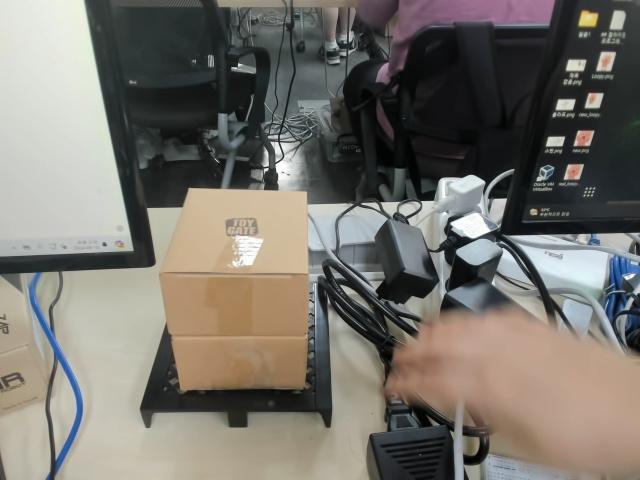box: (139, 188, 336, 431)
